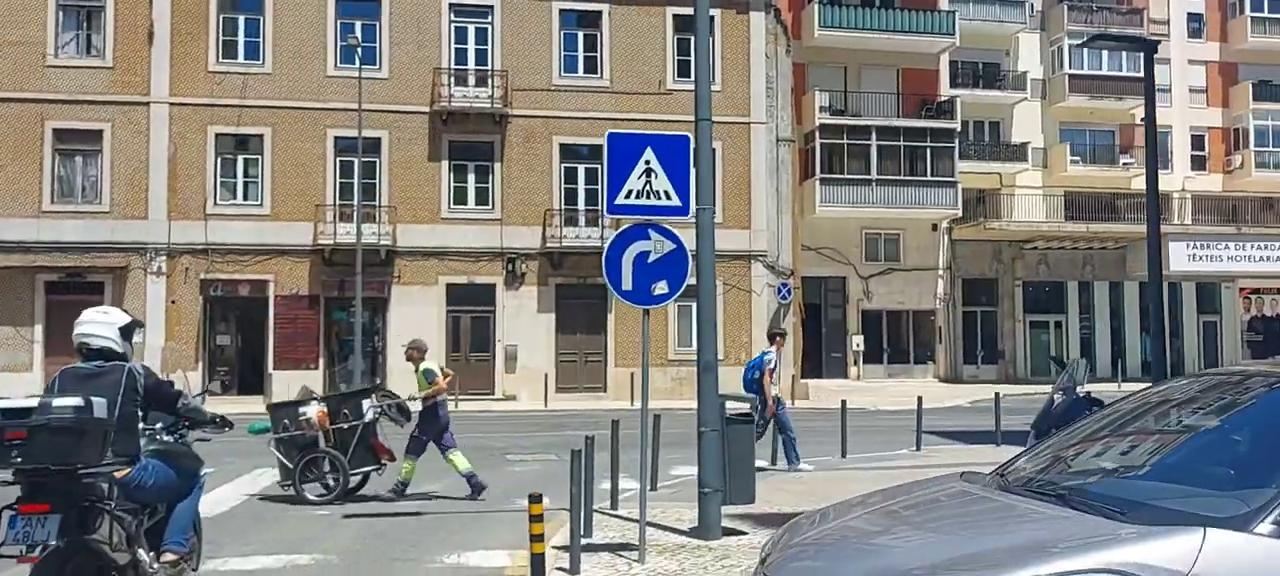passagem para peoes: (606, 131, 695, 221)
sentido obrigatorio: (599, 224, 695, 310)
